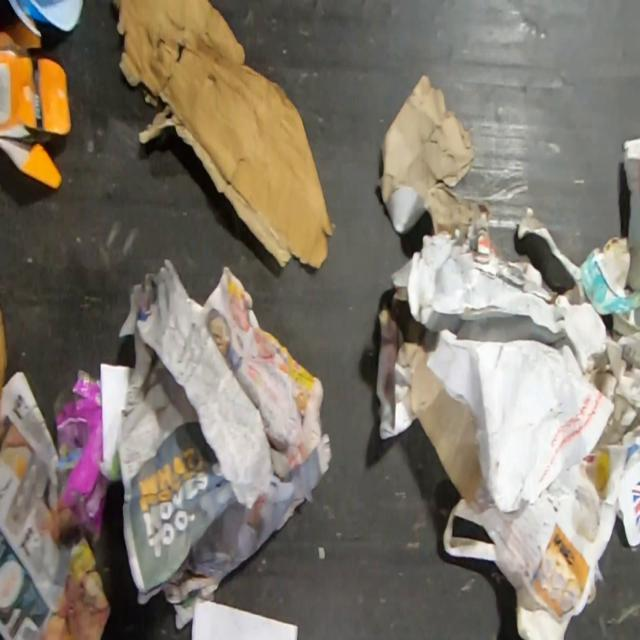cardboard: (374, 223, 612, 505), (109, 0, 338, 270), (373, 74, 492, 239), (515, 214, 640, 338), (0, 18, 72, 193), (97, 361, 136, 483), (514, 587, 572, 639), (622, 137, 640, 291), (615, 458, 639, 547), (0, 305, 9, 397)
soft_plastic: (48, 365, 112, 550), (8, 0, 86, 38)
